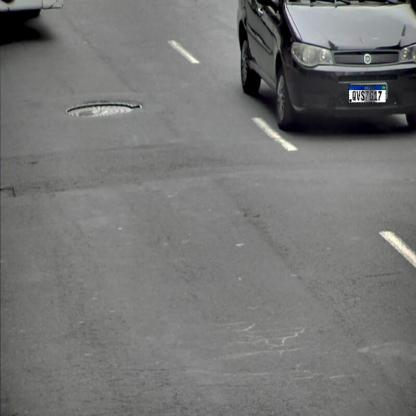PlacaM: (349, 85, 386, 103)
